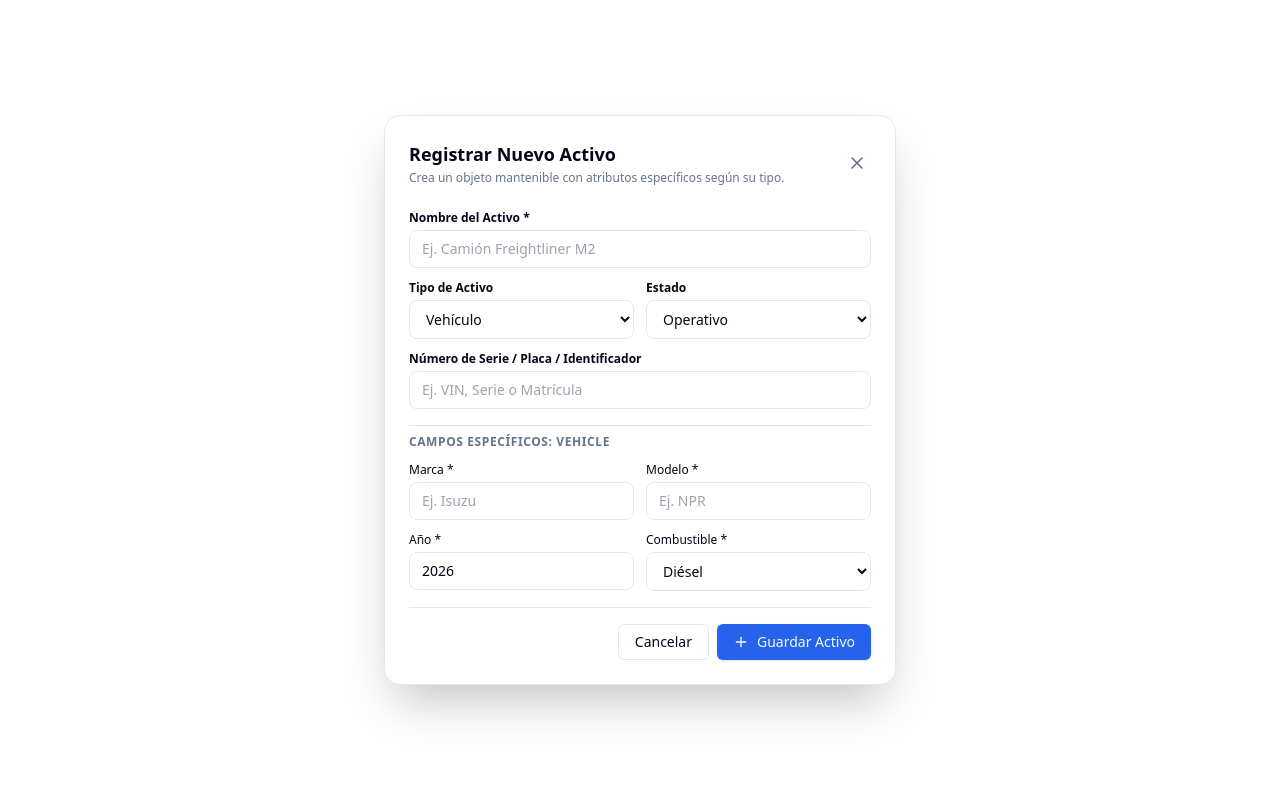
CreateAssetModal Polymorphic Form (TC-FE-ASSETS-03, TC-FE-ASSETS-04) › renders VEHICLE dynamic fields by default and switches to HVAC dynamic fields
Expected: the element with test id "fields-vehicle" is shown, [409, 462, 871, 591]
Expected: the field with test id "input-vehicle-brand" is shown, [409, 482, 634, 520]
// Switch type to HVAC
Select "Climatización (HVAC)" in the dropdown with test id "select-asset-type". click: point(522, 320)
box: [409, 300, 634, 339]
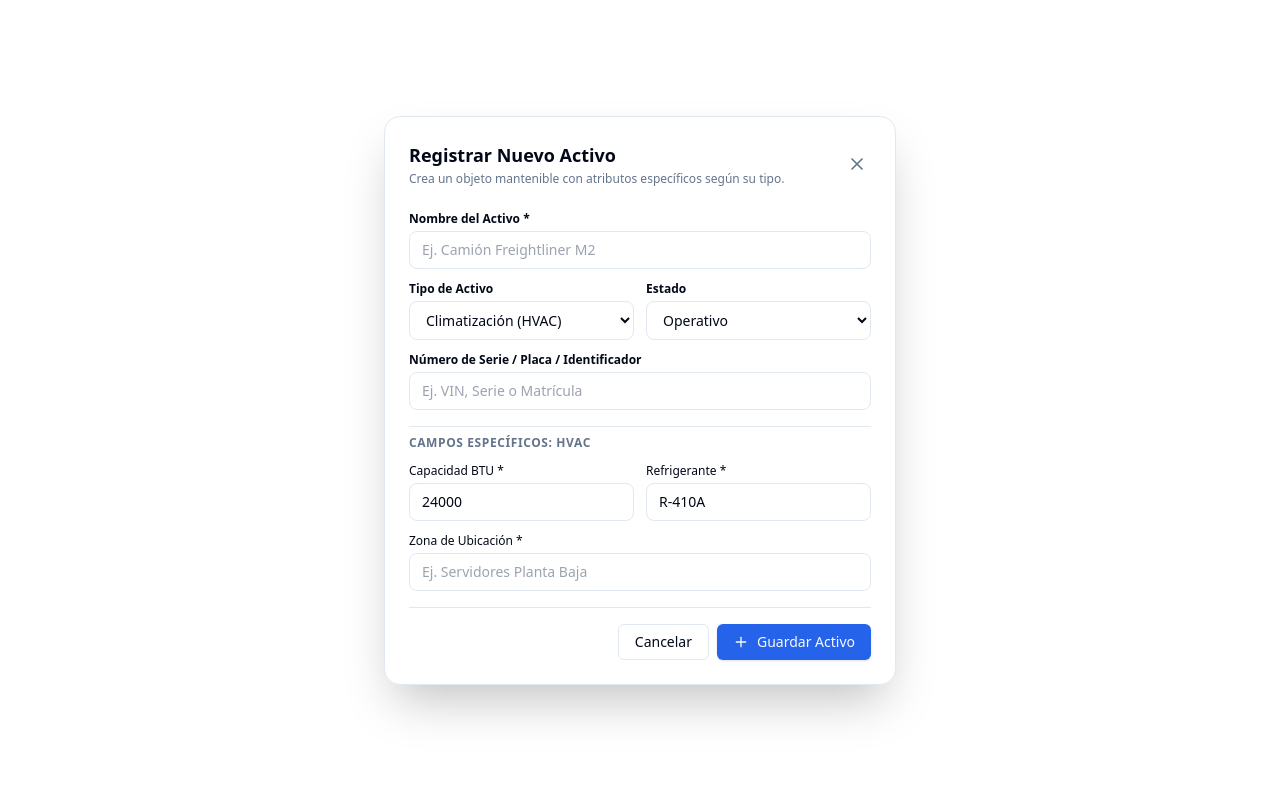
Expected: the element with test id "fields-hvac" is shown, [409, 462, 871, 590]
Expected: the number field with test id "input-hvac-btu" is shown, [409, 482, 634, 520]
Expected: the field with test id "input-hvac-zone" is shown, [409, 552, 871, 590]
